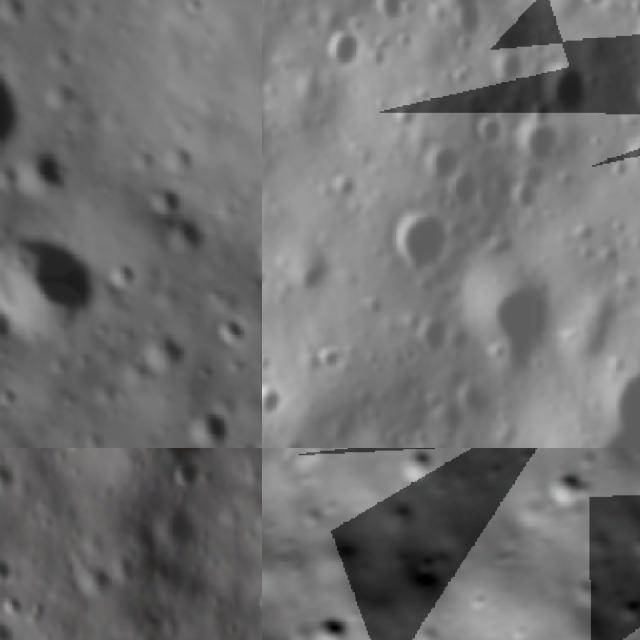crater: (0, 235, 95, 342), (480, 270, 558, 376), (531, 451, 602, 524), (390, 208, 454, 278), (536, 55, 592, 120), (287, 597, 358, 640), (324, 21, 375, 74), (122, 330, 186, 370), (387, 448, 442, 493), (419, 134, 468, 184), (514, 124, 564, 171), (445, 163, 491, 210), (488, 48, 534, 95), (180, 406, 231, 448), (441, 0, 484, 49), (409, 312, 453, 358), (465, 103, 508, 150), (18, 154, 68, 192), (365, 0, 413, 31), (262, 377, 293, 423), (326, 170, 362, 208), (211, 305, 246, 344), (314, 338, 341, 377), (146, 187, 182, 216), (169, 466, 202, 493), (112, 260, 136, 292), (0, 384, 26, 412), (176, 0, 207, 19), (577, 0, 611, 15), (0, 564, 21, 587), (7, 595, 26, 616), (254, 584, 262, 615)
